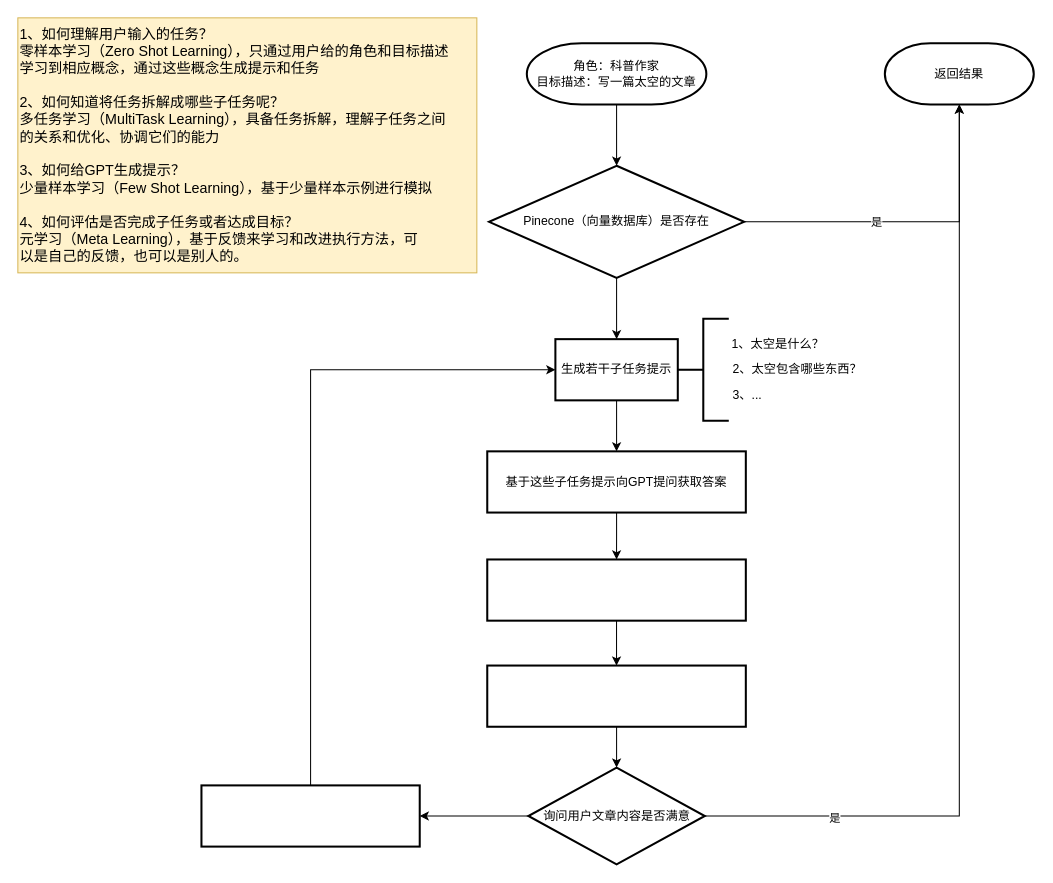
The diagram is 1053 pixels wide and 883 high, and some of its shapes have lost their labels. Each missing label, with the box of its shape:
基于反馈重新生成若干子任务修改文章: (200, 784, 420, 847)
将答案写入Pinecone: (486, 558, 746, 621)
汇总结果生成整篇文章: (486, 664, 746, 727)
